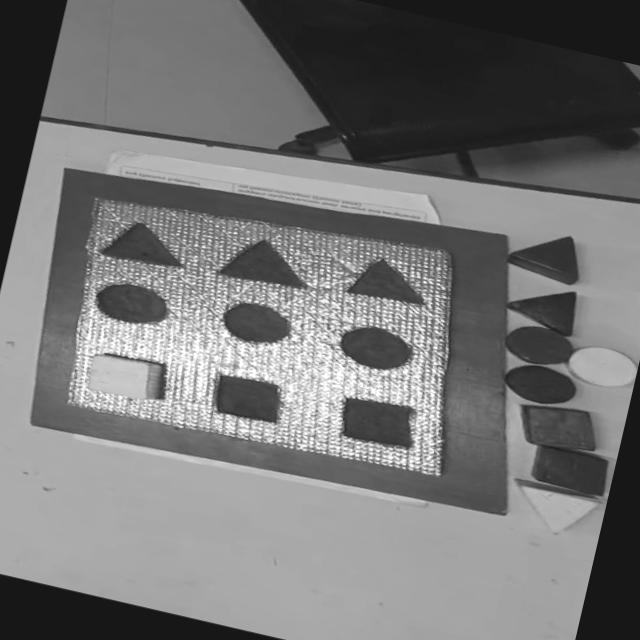bcircle: (499, 358, 579, 411)
bcube: (528, 442, 612, 498)
btriangle: (502, 278, 582, 338)
mtcircle: (90, 276, 172, 332), (334, 321, 415, 376), (217, 297, 296, 352)
mtcube: (334, 391, 421, 453), (208, 369, 288, 427)
mttriangle: (215, 230, 313, 296), (342, 252, 432, 314), (97, 214, 187, 273)
rcircle: (500, 320, 578, 372)
rcube: (511, 396, 604, 458)
rtriangle: (504, 224, 589, 287)
wb: (41, 172, 485, 490)
ycircle: (561, 339, 640, 395)
ycube: (83, 348, 168, 405)
ytriangle: (506, 478, 602, 542)
